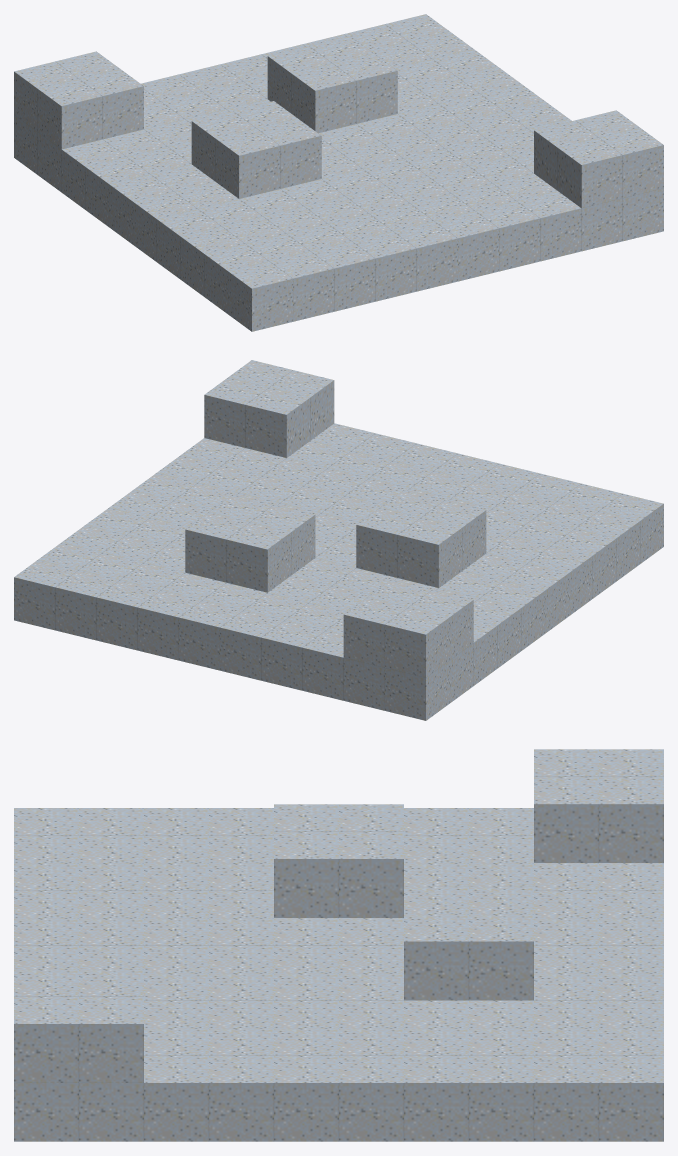
File: geometry-04-room1roof.FBX
The picture shows the model from 3 angles, top to bottom: view 1: azimuth 30°, elevation 25°; view 2: azimuth 150°, elevation 25°; view 3: azimuth 270°, elevation 25°; orthographic projection. The views are drawn at different scales.
Parts seen in each view (by area): view 1: room1-roof; view 2: room1-roof; view 3: room1-roof.
Part boxes in pixels (x1,y1,x2,y2): room1-roof: (14, 14, 663, 331); room1-roof: (14, 360, 663, 720); room1-roof: (14, 749, 663, 1141).
Bounding box in the file's own units: 200 × 40 × 200.
Materials: 1 (1 with a texture image).
